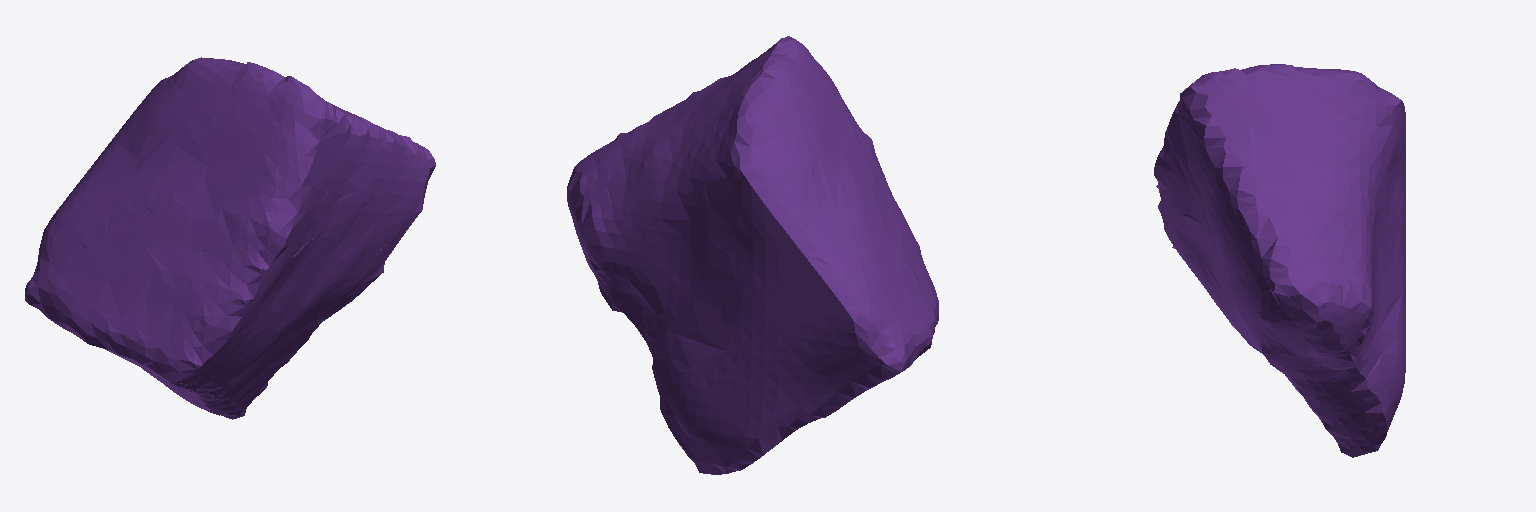
The model's file is Model_10070_LH__Area_45_of_cortex_(A45).obj.
The picture shows the model from 3 angles: view 1: azimuth 30°, elevation 25°; view 2: azimuth 150°, elevation 25°; view 3: azimuth 270°, elevation 25°; orthographic projection.
Bounding box in the file's own units: 2.64 × 2.66 × 1.57.